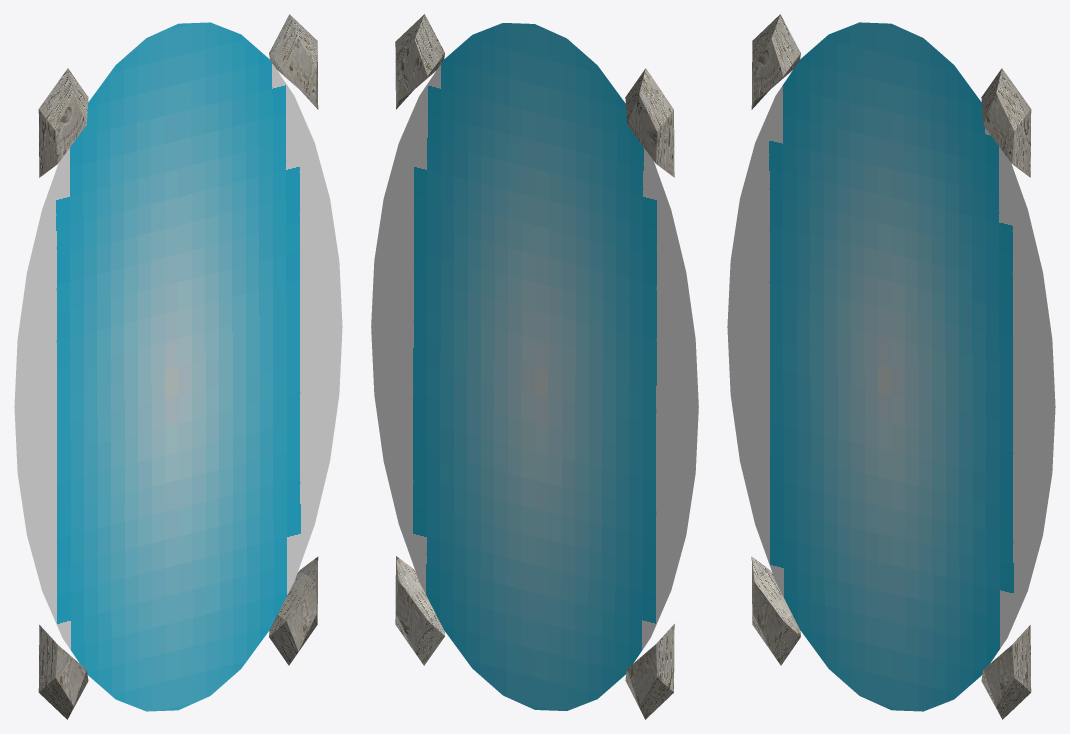
The model's file is imps_pedestal_rift.obj.
The picture shows the model from 3 angles, left to right: view 1: azimuth 30°, elevation 25°; view 2: azimuth 150°, elevation 25°; view 3: azimuth 330°, elevation 25°; orthographic projection.
Visible parts, largest first — view 1: Circle, Torus; view 2: Circle, Torus; view 3: Circle, Torus.
Boxes of the visible parts, x1,y1,x2,y2 form: Circle: (14,22,342,711); Torus: (38,14,318,719); Circle: (371,23,698,710); Torus: (395,14,674,719); Circle: (727,22,1055,711); Torus: (751,14,1031,719).
Size of the model in its own units: 0.75 by 1.5 by 0.0646.
